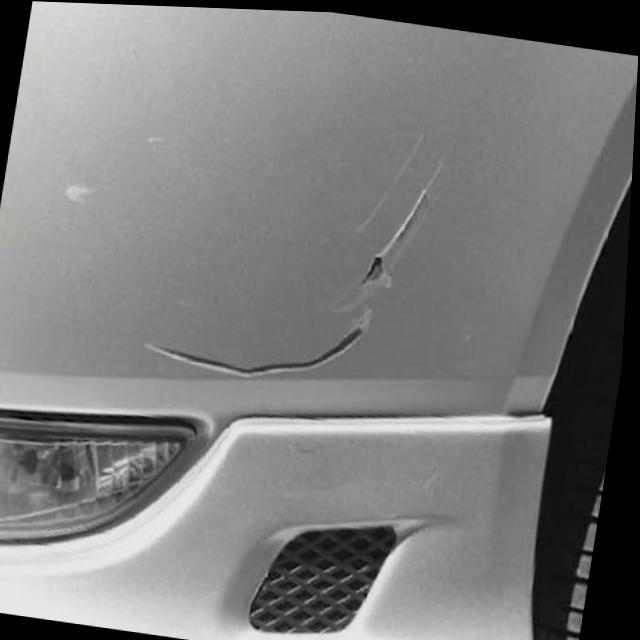Scratch: (133, 172, 431, 379)
